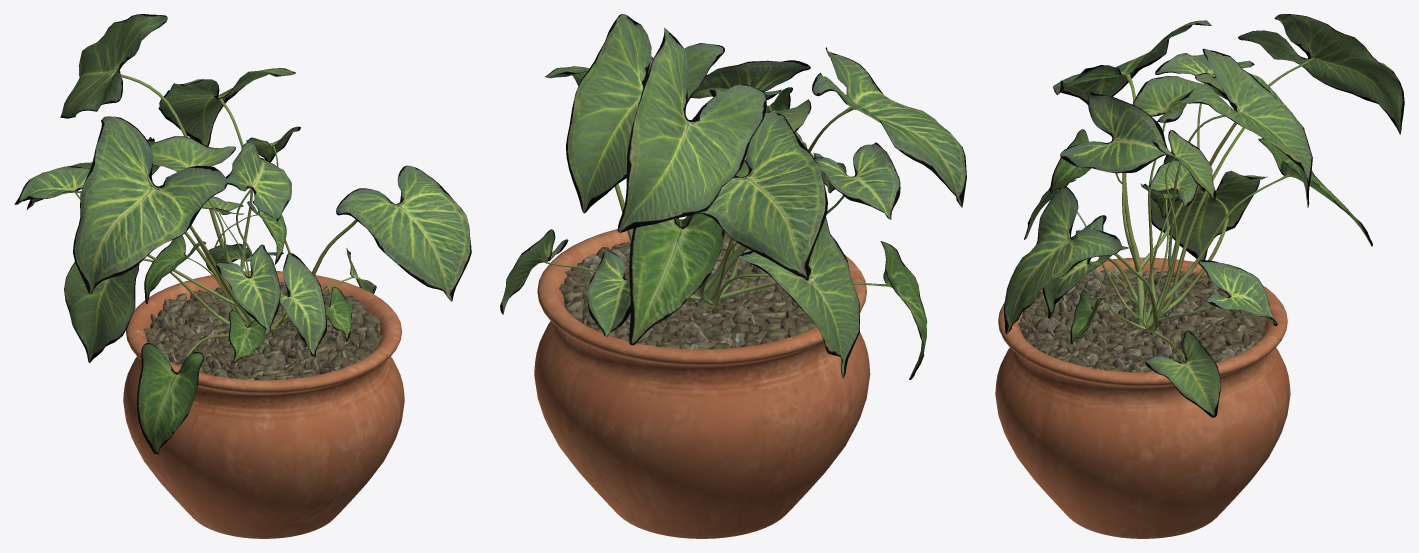
The model's file is potted_plant_02.glb.
3 views of the same model, side by side, from view 1: azimuth 30°, elevation 25°; view 2: azimuth 150°, elevation 25°; view 3: azimuth 270°, elevation 25° (orthographic). The views are drawn at different scales.
Parts seen in each view (by area): view 1: potted_plant_02_leaves, potted_plant_02_pot; view 2: potted_plant_02_leaves, potted_plant_02_pot; view 3: potted_plant_02_pot, potted_plant_02_leaves.
Part boxes in pixels (box(x1,y1,x2,y2)): potted_plant_02_leaves: box(14, 14, 471, 454); potted_plant_02_pot: box(123, 271, 404, 538); potted_plant_02_leaves: box(500, 14, 966, 379); potted_plant_02_pot: box(534, 219, 870, 538); potted_plant_02_pot: box(995, 257, 1290, 538); potted_plant_02_leaves: box(1004, 14, 1404, 417).
Bounding box in the file's own units: 0.7012 × 0.8412 × 0.6574.
Materials: 2 (2 with a texture image).
